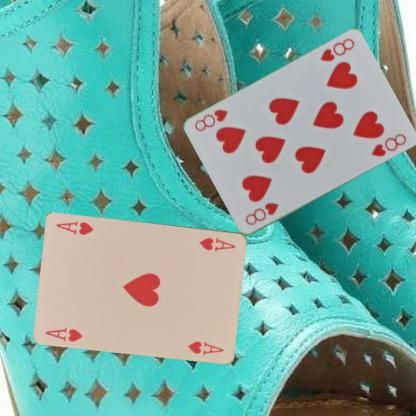8h: (317, 36, 356, 63), (242, 200, 280, 227)
Ah: (43, 324, 84, 343), (197, 234, 237, 252)
